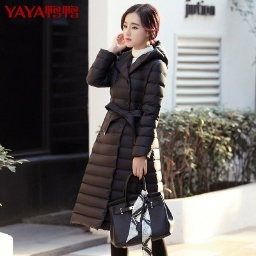face: (119, 1, 170, 51)
